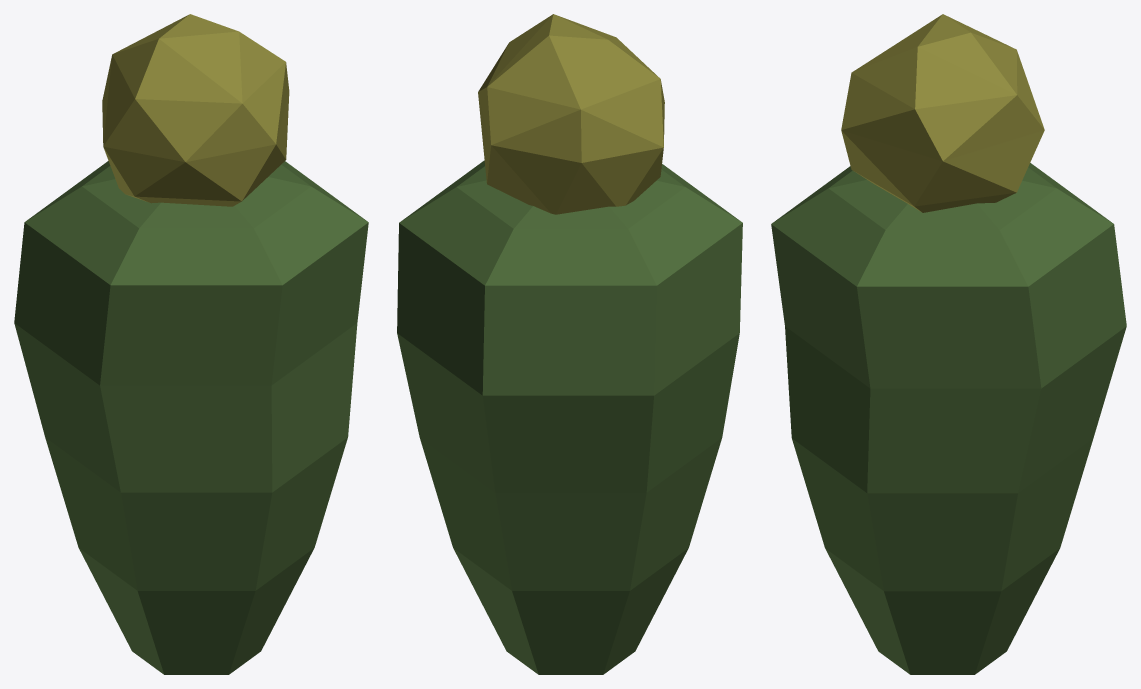
The model's file is SM_Envr_Nature_Plant_Desert_07.fbx.
The picture shows the model from 3 angles, left to right: view 1: azimuth 30°, elevation 25°; view 2: azimuth 150°, elevation 25°; view 3: azimuth 270°, elevation 25°; orthographic projection.
Visible parts, largest first — view 1: SM_Envr_Nature_Plant_Desert_07; view 2: SM_Envr_Nature_Plant_Desert_07; view 3: SM_Envr_Nature_Plant_Desert_07.
Boxes of the visible parts, left/top/right/bottom form: SM_Envr_Nature_Plant_Desert_07: left=14, top=14, right=368, bottom=674; SM_Envr_Nature_Plant_Desert_07: left=397, top=14, right=742, bottom=674; SM_Envr_Nature_Plant_Desert_07: left=771, top=14, right=1126, bottom=674.
Size of the model in its own units: 52.11 by 119 by 61.52.
